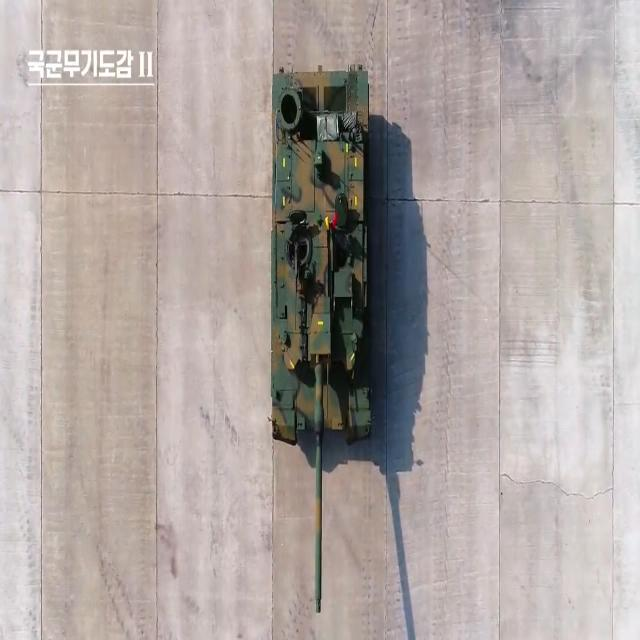korea tank: (266, 59, 376, 615)
